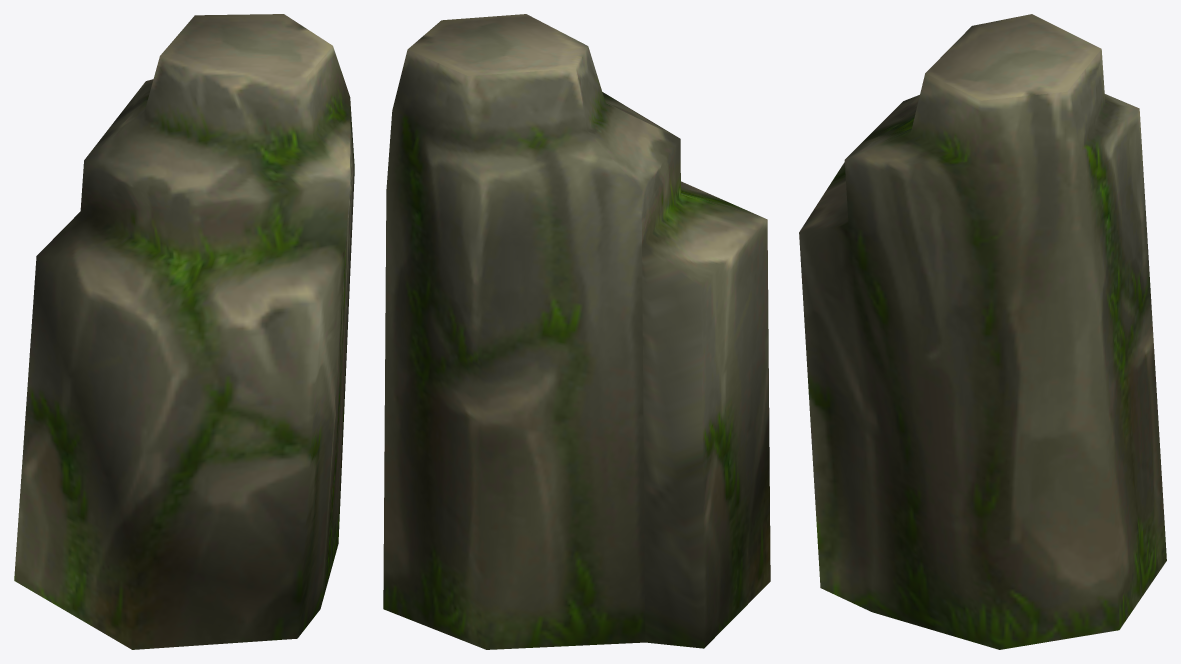
Rendered from RockFormation_4_5 (51).fbx.
3 views of the same model, side by side, from view 1: azimuth 30°, elevation 25°; view 2: azimuth 150°, elevation 25°; view 3: azimuth 270°, elevation 25° (orthographic). The views are drawn at different scales.
Parts seen in each view (by area): view 1: RockFormation_4_5 (51); view 2: RockFormation_4_5 (51); view 3: RockFormation_4_5 (51).
Part boxes in pixels (bbox=[...]): RockFormation_4_5 (51): bbox=[14, 14, 354, 649]; RockFormation_4_5 (51): bbox=[383, 14, 770, 649]; RockFormation_4_5 (51): bbox=[799, 14, 1166, 649].
Size of the model in its own units: 198 by 323 by 194.
